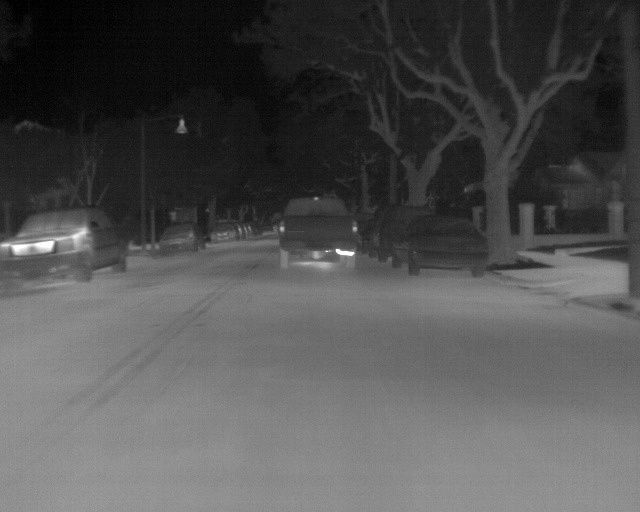vehicle: (1, 201, 130, 295), (279, 194, 362, 265), (409, 211, 487, 281), (162, 220, 205, 253), (208, 216, 247, 246)
